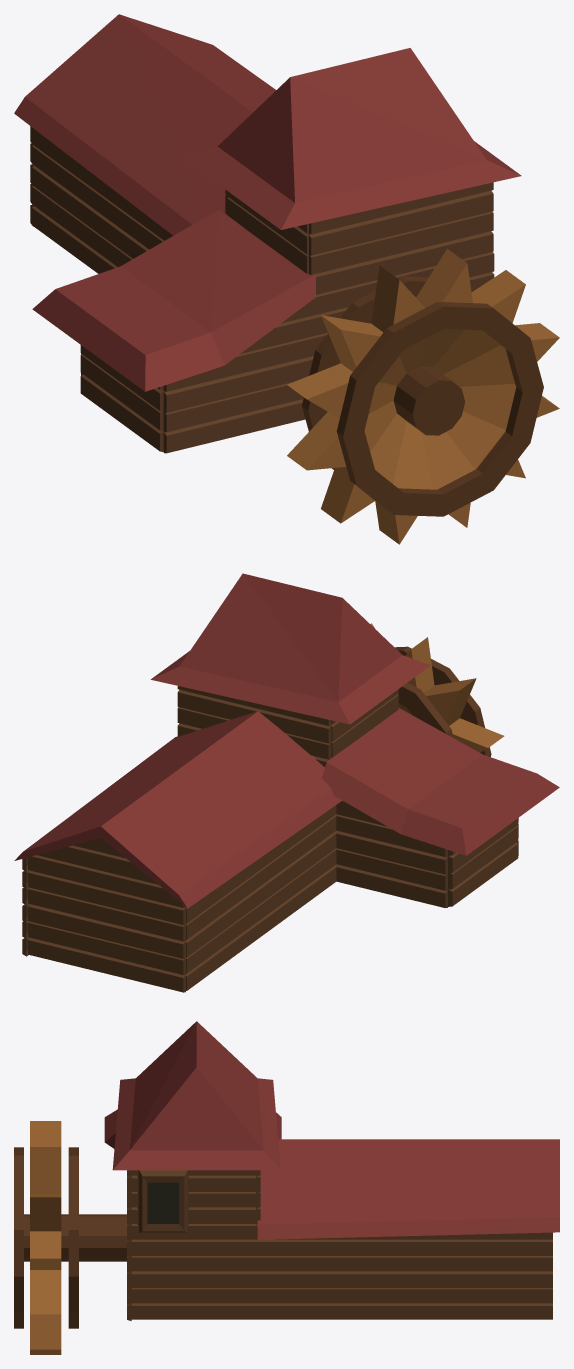
Rendered from WaterMill.fbx.
3 views of the same model, one above another, from view 1: azimuth 30°, elevation 25°; view 2: azimuth 150°, elevation 25°; view 3: azimuth 270°, elevation 25° (orthographic). The views are drawn at different scales.
Parts seen in each view (by area): view 1: WaterMillWheel.001, Roof3, Roof1, Roof2, WaterMillWheel, BaseWall.006, BaseWall.009, BaseWall.001, BaseWall.002, BaseWall.008, BaseWall.007; view 2: Roof1, Roof3, Roof2, BaseWall, BaseWall.001, BaseWall.010, BaseWall.005, WaterMillWheel.001, BaseWall.002, WaterMillWheel, Cube.006, BaseWall.007 (+1 smaller); view 3: BaseWall.003, Roof1, Roof3, WaterMillWheel.001, BaseWall.004, WaterMillWheel, Cube, Roof2, BaseWall.008.
Boxes of the visible parts, left/top/right/bottom form: WaterMillWheel.001: left=287, top=248, right=559, bottom=544; Roof3: left=184, top=48, right=521, bottom=229; Roof1: left=14, top=14, right=275, bottom=235; Roof2: left=32, top=209, right=315, bottom=391; WaterMillWheel: left=302, top=276, right=543, bottom=516; BaseWall.006: left=308, top=182, right=493, bottom=294; BaseWall.009: left=163, top=301, right=311, bottom=453; BaseWall.001: left=31, top=127, right=172, bottom=273; BaseWall.002: left=80, top=345, right=163, bottom=451; BaseWall.008: left=309, top=252, right=494, bottom=365; BaseWall.007: left=227, top=191, right=308, bottom=273; Roof1: left=14, top=711, right=342, bottom=908; Roof3: left=151, top=573, right=430, bottom=724; Roof2: left=322, top=708, right=559, bottom=855; BaseWall: left=27, top=855, right=185, bottom=992; BaseWall.001: left=186, top=805, right=336, bottom=990; BaseWall.010: left=335, top=800, right=447, bottom=907; BaseWall.005: left=177, top=686, right=331, bottom=766; WaterMillWheel.001: left=370, top=623, right=504, bottom=752; BaseWall.002: left=448, top=818, right=518, bottom=906; WaterMillWheel: left=395, top=646, right=491, bottom=756; Cube.006: left=37, top=845, right=157, bottom=884; BaseWall.007: left=331, top=689, right=398, bottom=757; BaseWall.003: left=131, top=1224, right=552, bottom=1319; Roof1: left=257, top=1139, right=559, bottom=1239; Roof3: left=112, top=1021, right=280, bottom=1170; WaterMillWheel.001: left=24, top=1121, right=126, bottom=1354; BaseWall.004: left=131, top=1170, right=256, bottom=1223; WaterMillWheel: left=14, top=1147, right=78, bottom=1328; Cube: left=137, top=1170, right=188, bottom=1232; Roof2: left=104, top=1109, right=281, bottom=1148; BaseWall.008: left=127, top=1224, right=131, bottom=1320.
Size of the model in its own units: 183 by 178 by 288.
